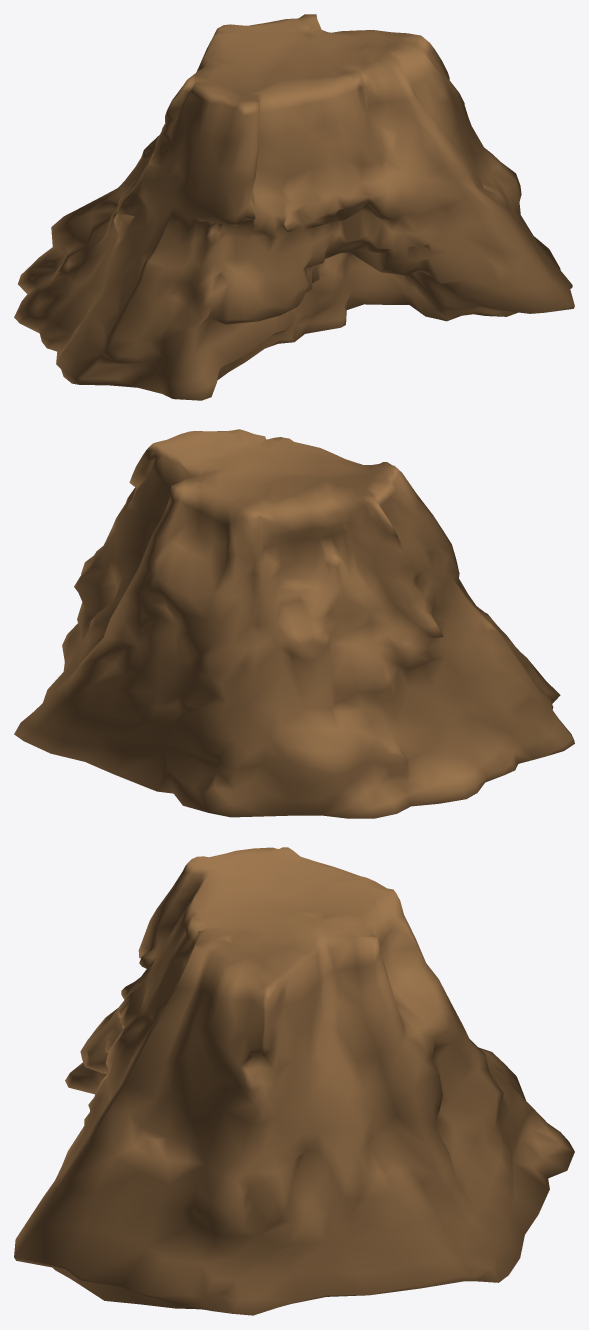
Rendered from MSH_Rocks_Cliff_01_c.FBX.
3 renders of one model, top to bottom at view 1: azimuth 30°, elevation 25°; view 2: azimuth 150°, elevation 25°; view 3: azimuth 270°, elevation 25°, orthographic. The views are drawn at different scales.
Visible parts, largest first — view 1: MESH_LOD0; view 2: MESH_LOD0; view 3: MESH_LOD0.
Boxes of the visible parts, x1=… form: MESH_LOD0: x1=14, y1=14, x2=574, y2=400; MESH_LOD0: x1=14, y1=429, x2=574, y2=818; MESH_LOD0: x1=14, y1=847, x2=574, y2=1315.
Size of what is drawn, in the model's own units: 298 by 149 by 250.
